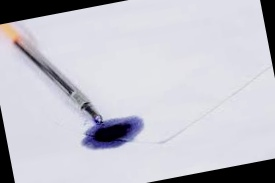ink: (81, 117, 143, 149)
